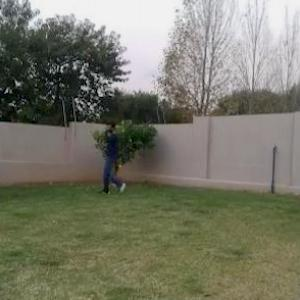follow: (99, 114, 120, 201)
